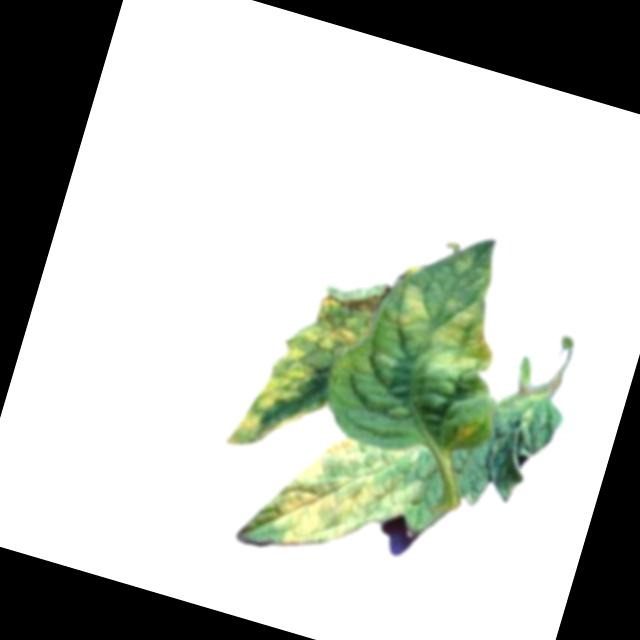Leaf_Mold: (224, 256, 384, 475), (243, 403, 426, 578), (419, 289, 508, 389), (378, 276, 439, 348)
